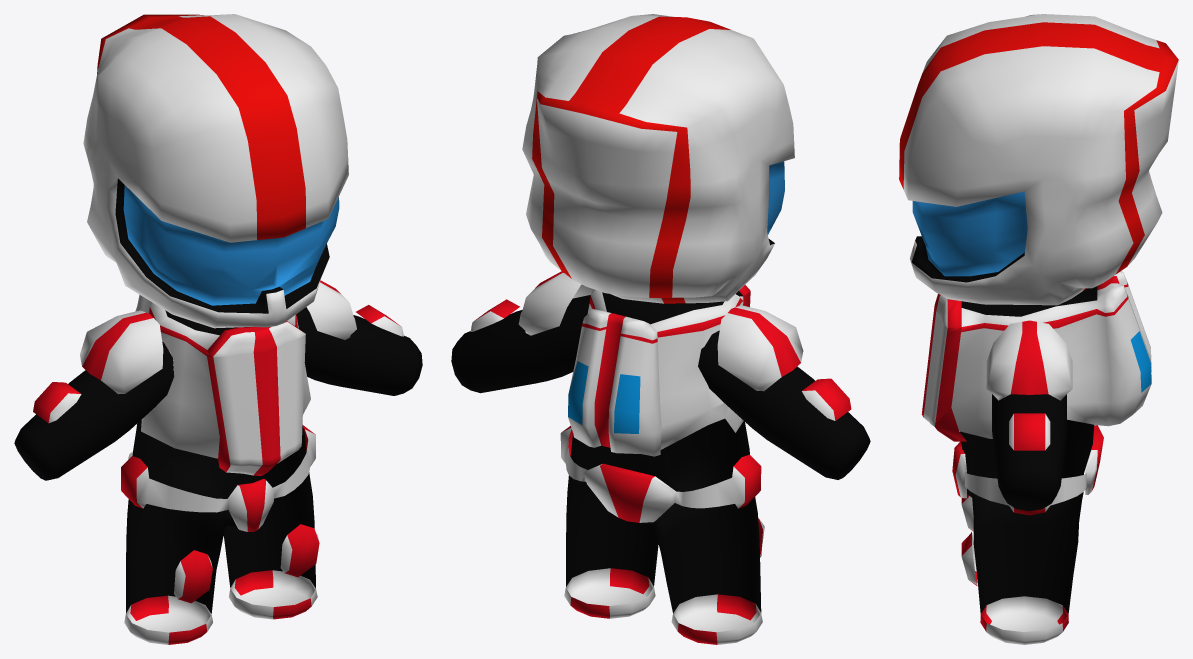
File: BaseSuit.fbx
3 renders of one model, left to right at view 1: azimuth 30°, elevation 25°; view 2: azimuth 150°, elevation 25°; view 3: azimuth 270°, elevation 25°, orthographic. The views are drawn at different scales.
Parts seen in each view (by area): view 1: Helm, Armor, Body; view 2: Helm, Armor, Body; view 3: Helm, Armor, Body.
Boxes of the visible parts, <box> form: Helm: <box>83,14,348,328</box>; Armor: <box>33,280,403,644</box>; Body: <box>14,307,422,613</box>; Helm: <box>522,14,794,303</box>; Armor: <box>470,271,851,644</box>; Body: <box>451,295,870,613</box>; Helm: <box>899,14,1178,305</box>; Armor: <box>921,271,1151,644</box>; Body: <box>960,394,1094,613</box>.
Size of the model in its own units: 6.09 by 8.43 by 3.73.
